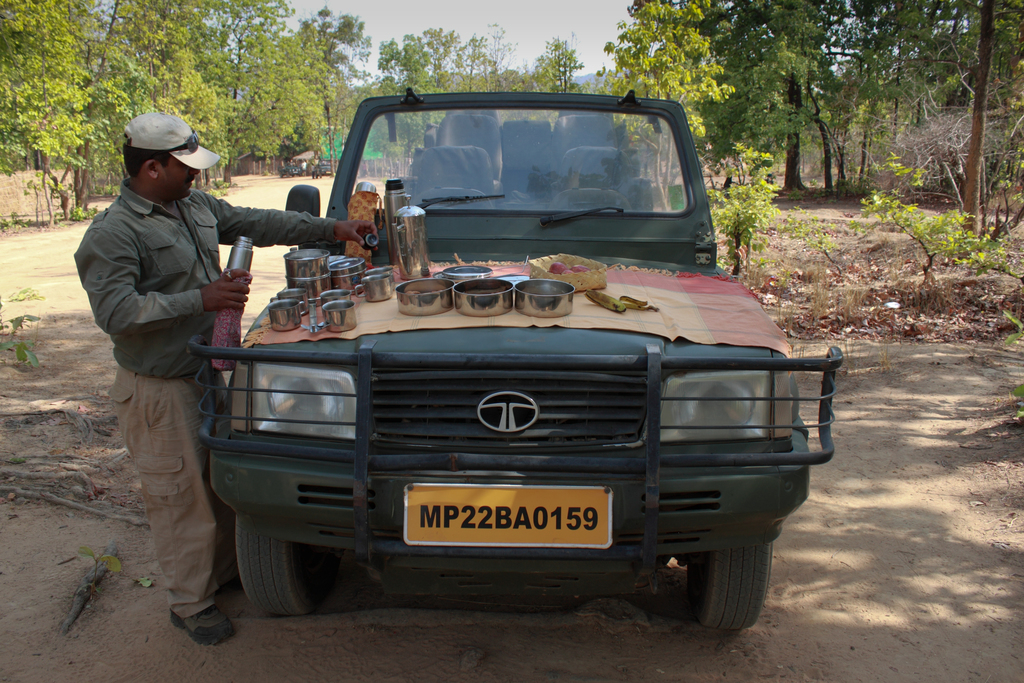Person: (73, 111, 378, 645)
